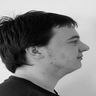ear: (19, 36, 51, 64)
